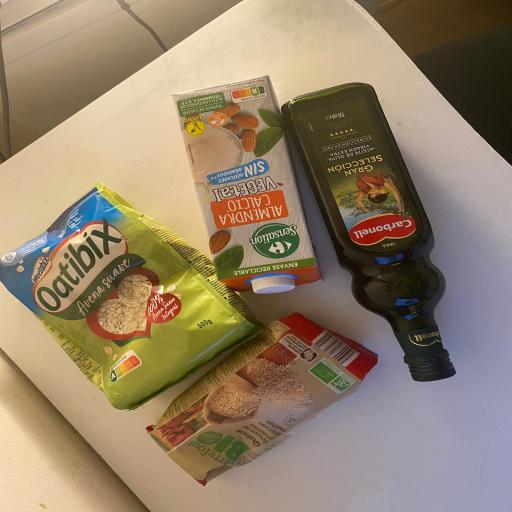almond_milk: (171, 71, 321, 294)
oats: (0, 184, 246, 404), (148, 315, 371, 483)
olive_oil: (282, 78, 460, 385)
